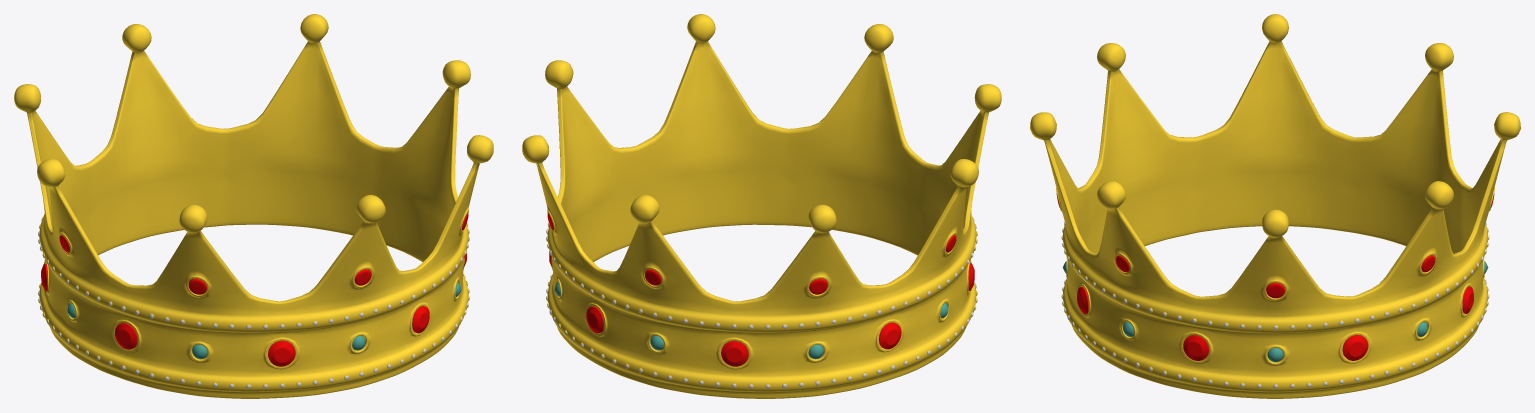
File: crown.fbx
3 renders of one model, left to right at view 1: azimuth 30°, elevation 25°; view 2: azimuth 150°, elevation 25°; view 3: azimuth 270°, elevation 25°, orthographic.
Parts seen in each view (by area): view 1: 13451_Golden_Crown_v1_L2; view 2: 13451_Golden_Crown_v1_L2; view 3: 13451_Golden_Crown_v1_L2.
Boxes of the visible parts, left/top/right/bottom form: 13451_Golden_Crown_v1_L2: left=14, top=14, right=493, bottom=398; 13451_Golden_Crown_v1_L2: left=522, top=14, right=1001, bottom=398; 13451_Golden_Crown_v1_L2: left=1030, top=14, right=1520, bottom=398.
Bounding box in the file's own units: 1.45 × 0.6452 × 1.45.
